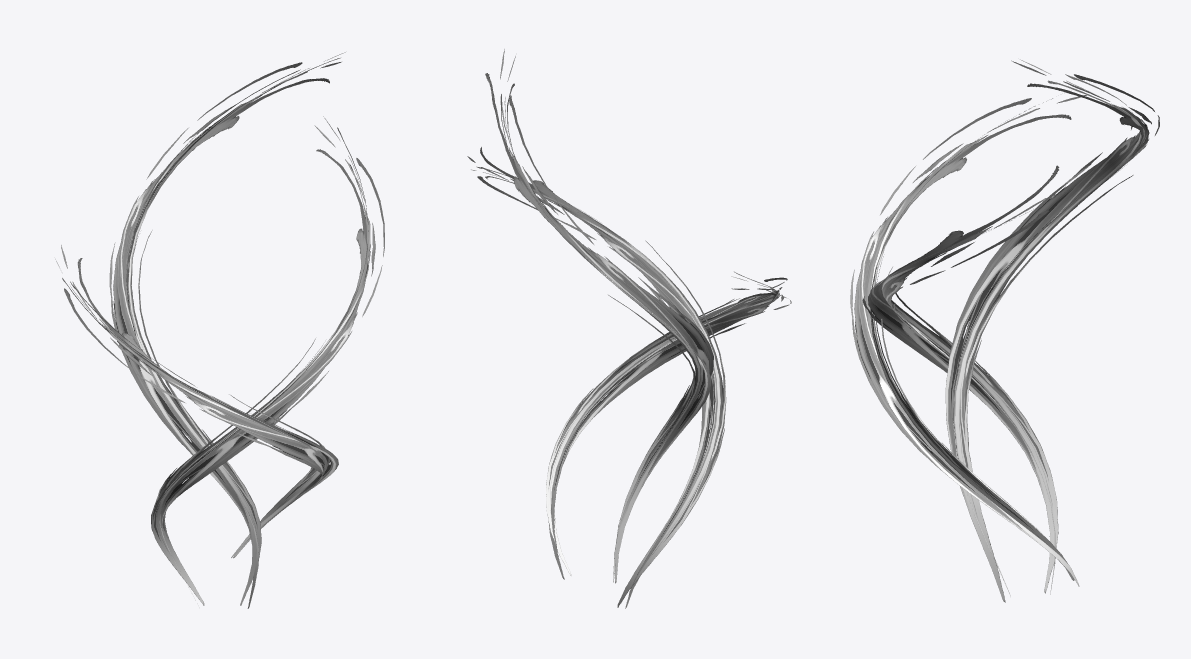
The model's file is xms_chuangjue_nv_kaihua01.FBX.
3 views of the same model, side by side, from view 1: azimuth 30°, elevation 25°; view 2: azimuth 150°, elevation 25°; view 3: azimuth 270°, elevation 25° (orthographic). The views are drawn at different scales.
Parts seen in each view (by area): view 1: xms_chuangjue_nv_kaihua01; view 2: xms_chuangjue_nv_kaihua01; view 3: xms_chuangjue_nv_kaihua01.
Part boxes in pixels (x1,y1,x2,y2): xms_chuangjue_nv_kaihua01: (55, 52, 384, 608); xms_chuangjue_nv_kaihua01: (467, 49, 791, 608); xms_chuangjue_nv_kaihua01: (850, 59, 1159, 602).
Bounding box in the file's own units: 170 × 287 × 130.
